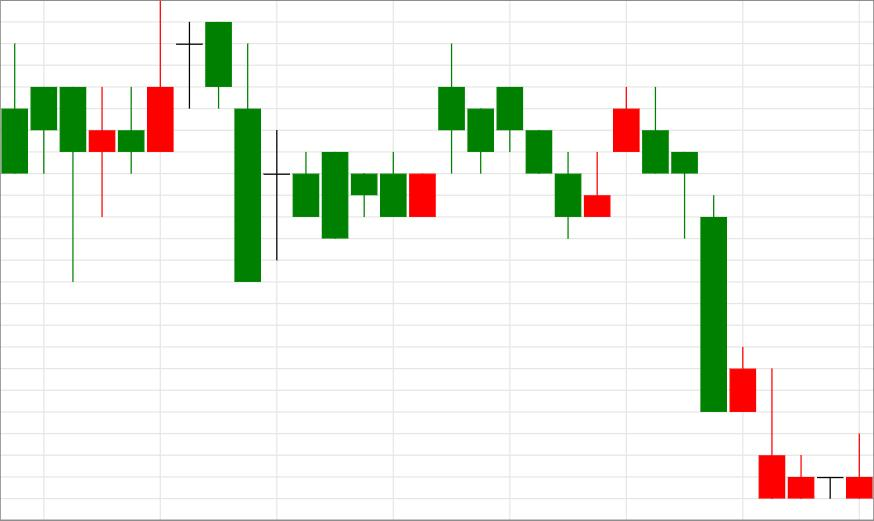inverse_hammer_rise: (642, 86, 785, 500)
